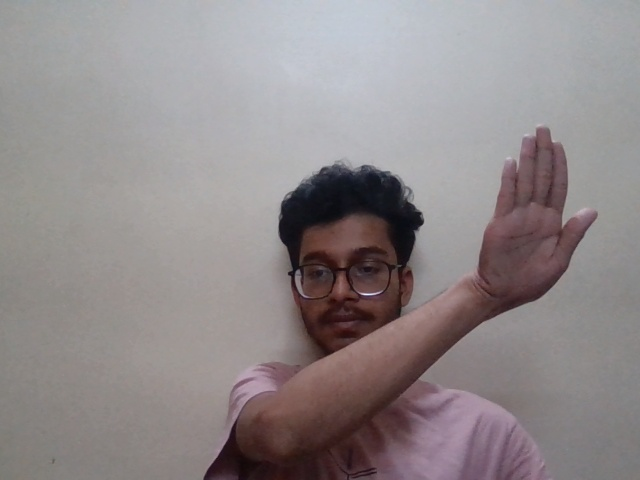hello: (471, 121, 610, 331)
